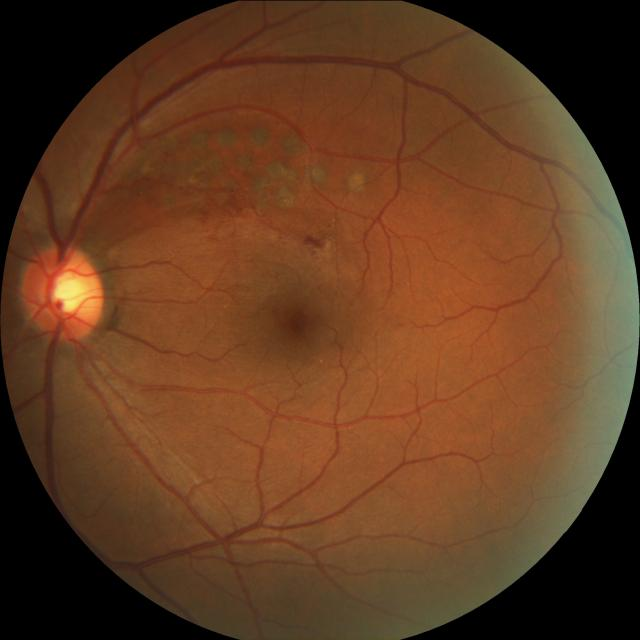OC: (46, 267, 88, 315)
OD: (20, 244, 103, 342)
